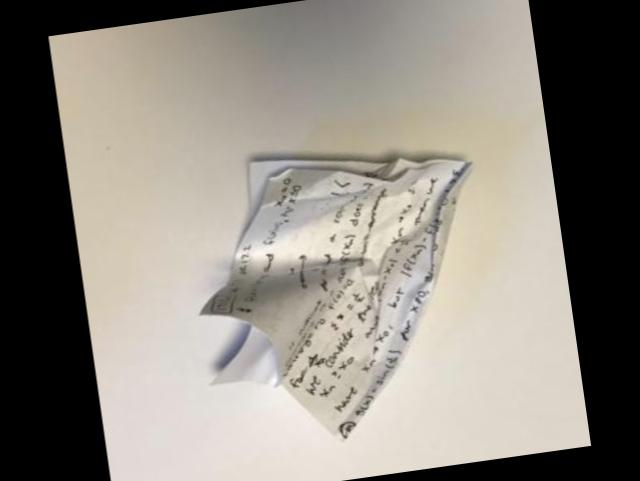cardboard paper: (200, 161, 469, 440)
